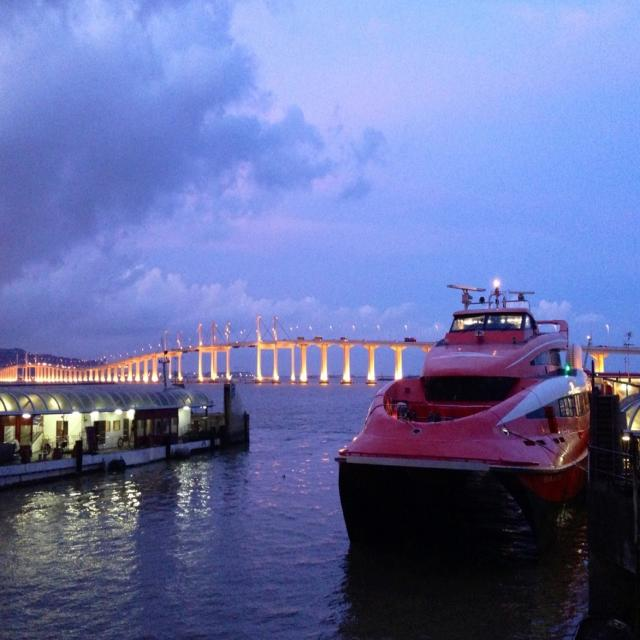houseboat: (337, 286, 604, 555)
